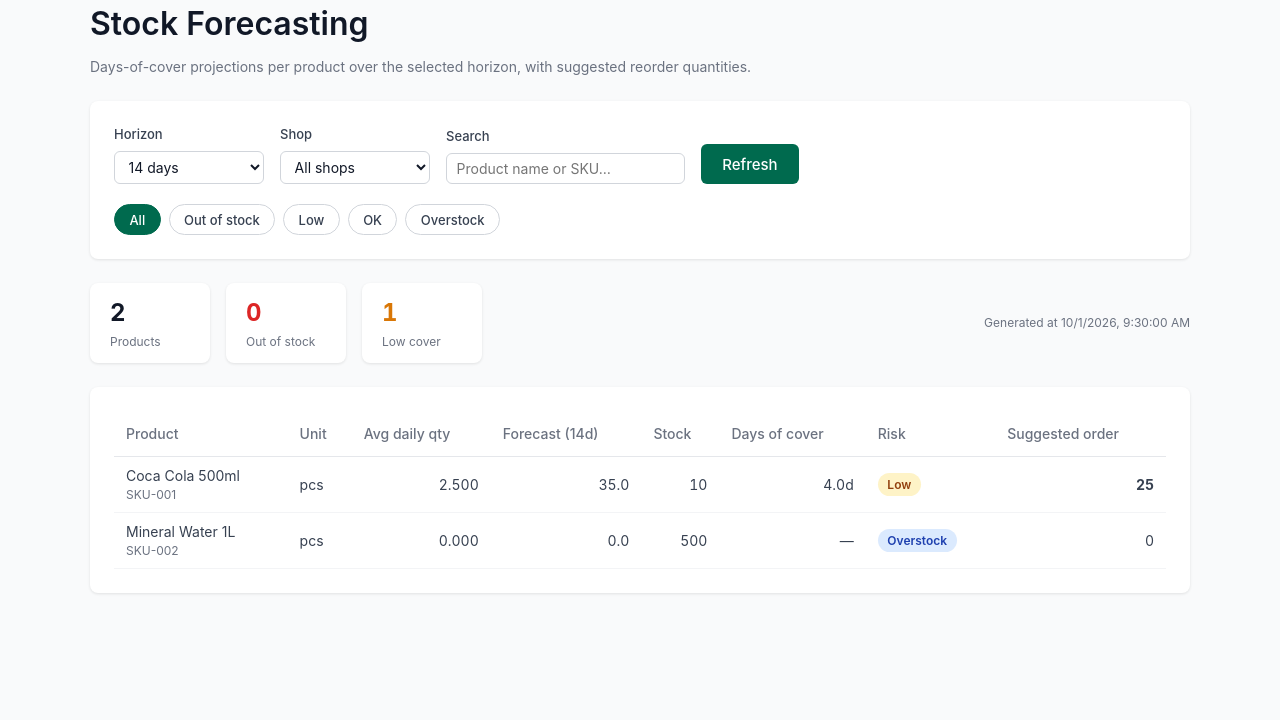
Test: Forecast page › surfaces a failed detail fetch inside the expanded panel
Click the row "Coca Cola 500ml SKU-001 pcs 2.500 35.0 10 4.0d Low 25" at (640, 485), box [114,457,1166,513]
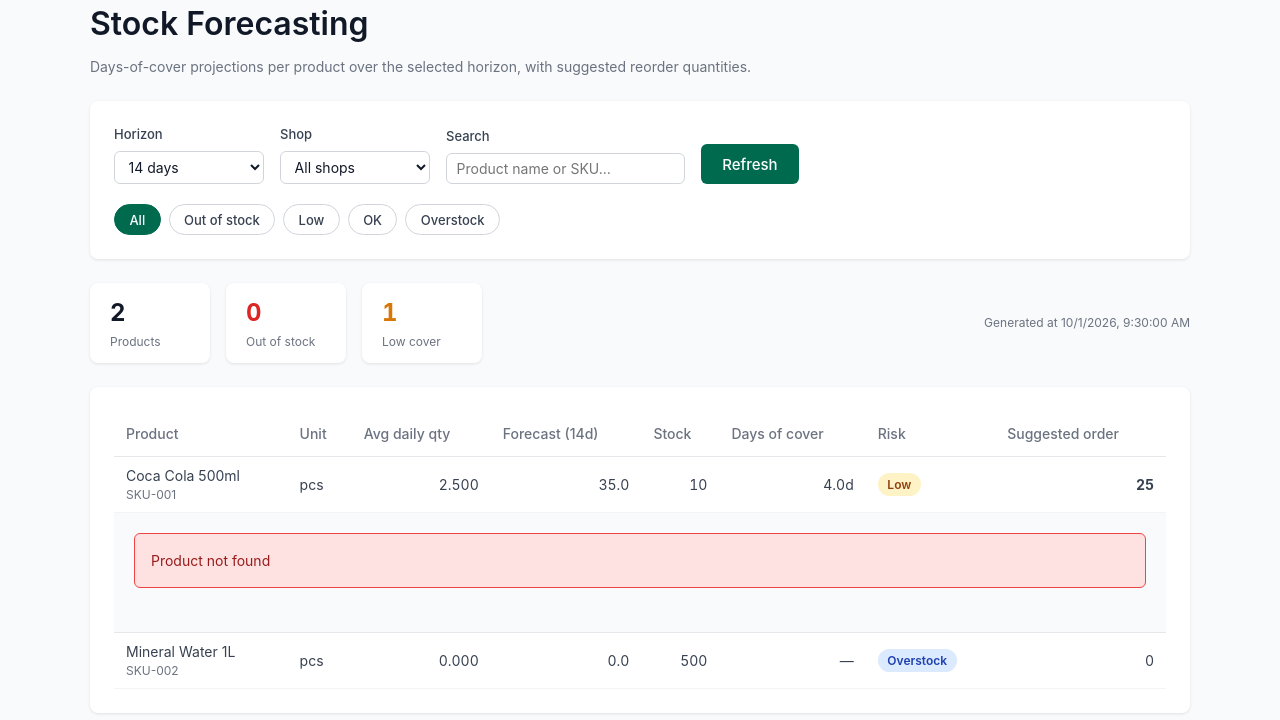
Expected: the message reads "Product not found", [151,552,270,569]
